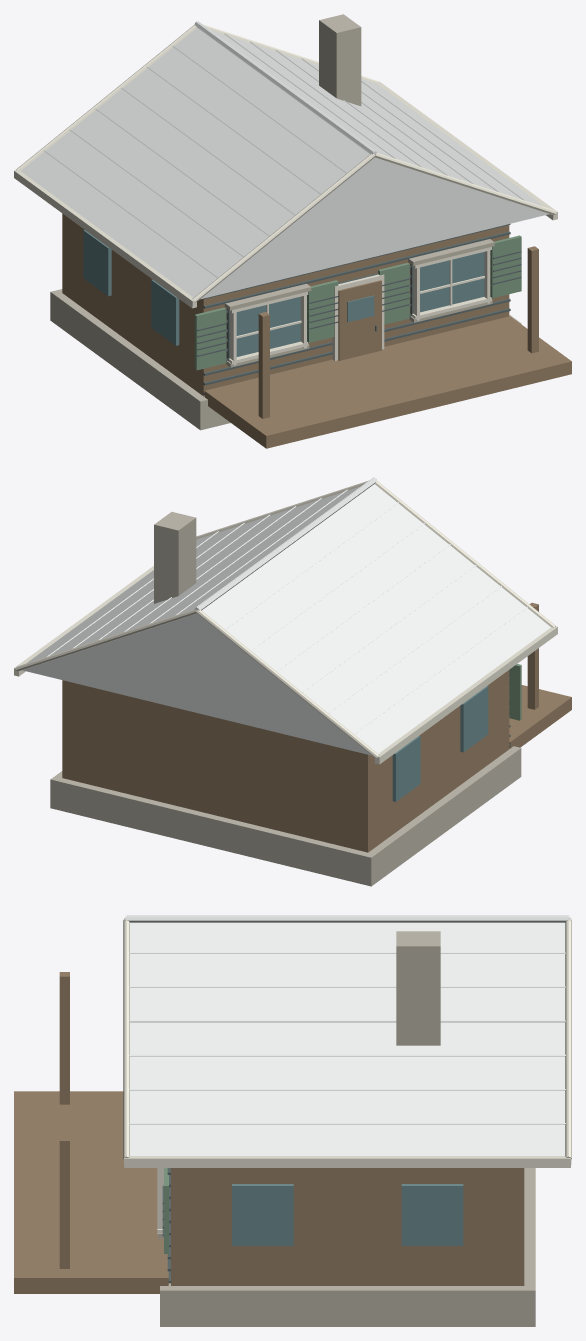
The picture shows the model from 3 angles, top to bottom: view 1: azimuth 30°, elevation 25°; view 2: azimuth 150°, elevation 25°; view 3: azimuth 270°, elevation 25°; orthographic projection. The views are drawn at different scales.
Size of the model in its own units: 11.96 by 8.5 by 12.62.
